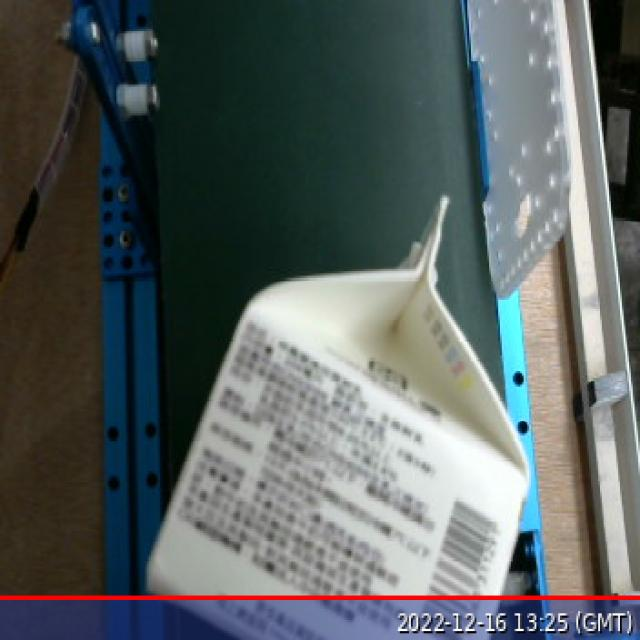non_white_jug: (135, 184, 546, 640)
